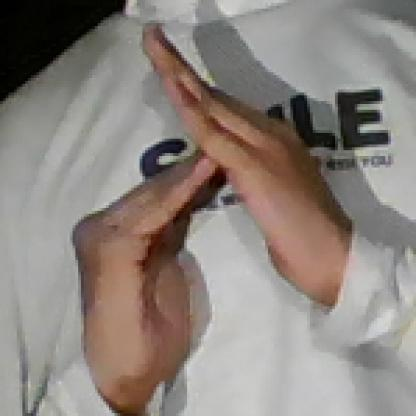Z: (63, 18, 328, 372)
